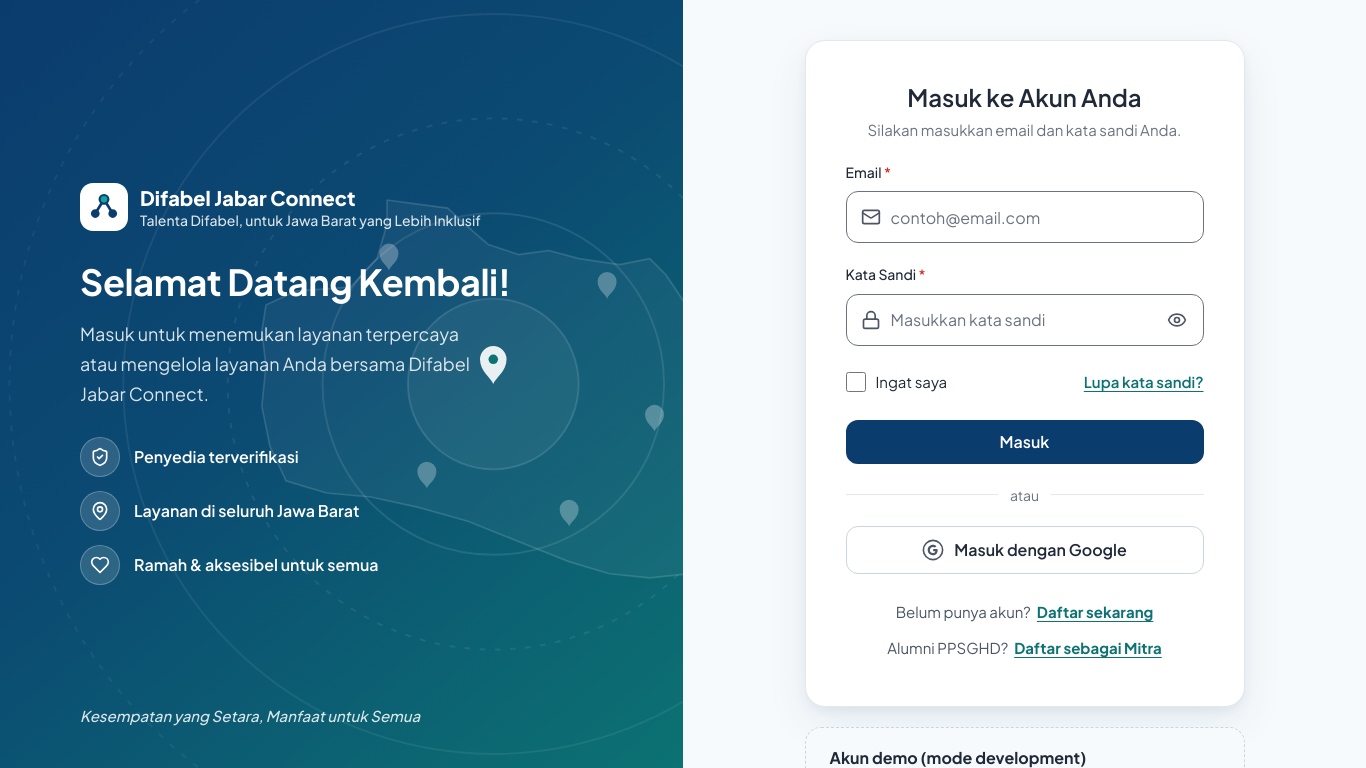
Scenario: Masuk dengan Google › popup ditutup tidak memanggil backend dan memberi info
This screenshot has width=1366, height=768.
Step 1. Click the button "Masuk dengan Google" → (1024, 550), box [846,526,1204,574]
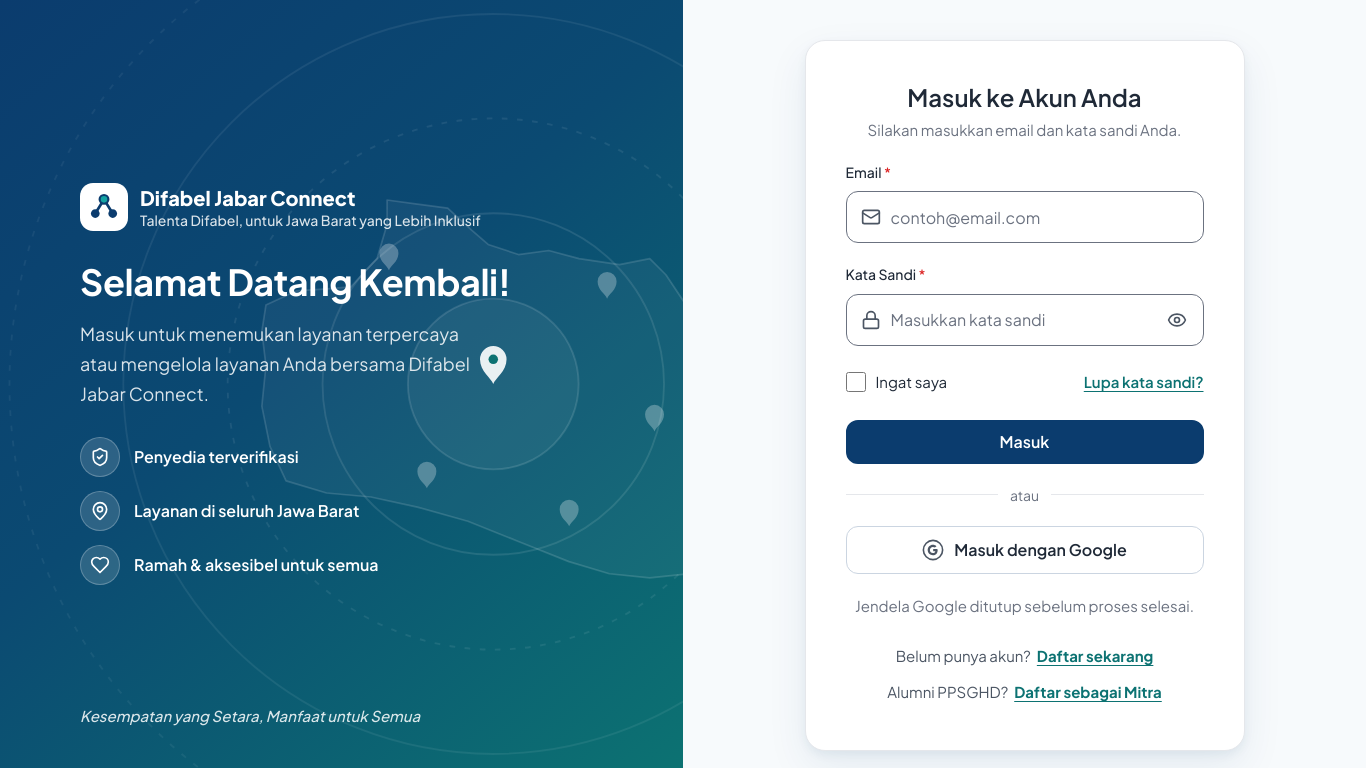
Check: the message shows "Jendela Google ditutup", box [855,596,1194,615]
